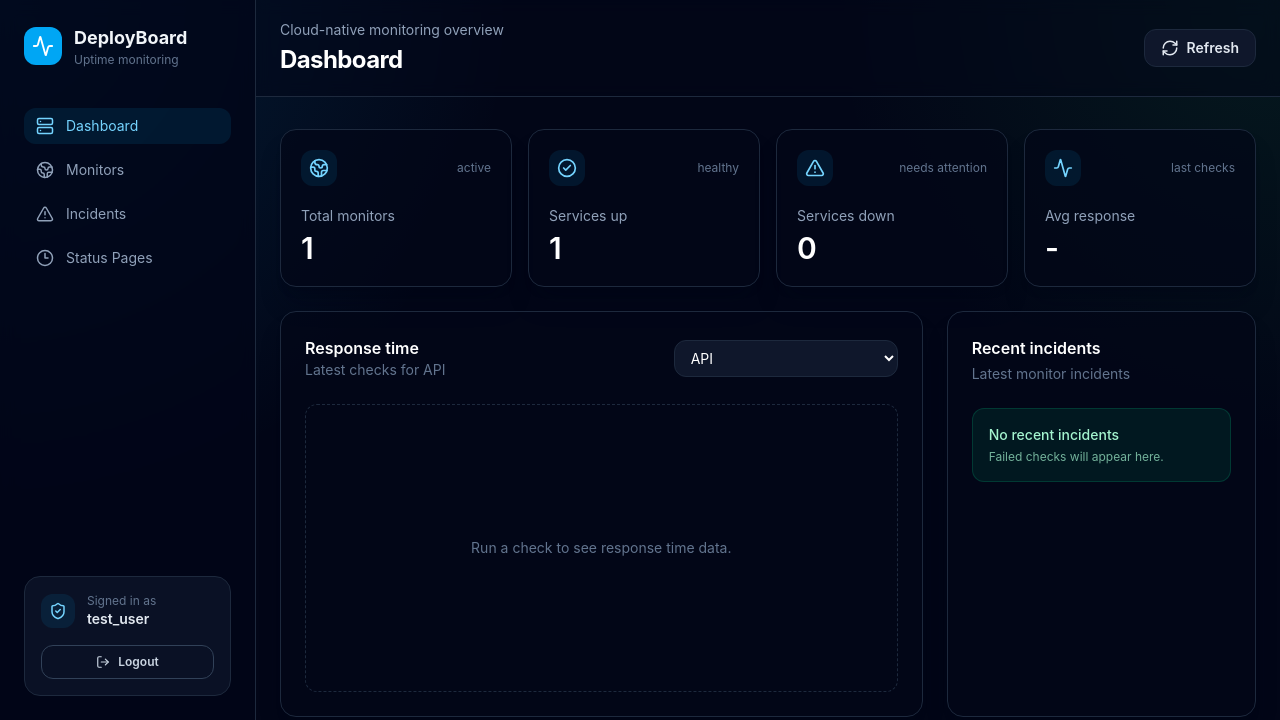
Test: dashboard views › shows Check only on Dashboard and full actions on Monitors
expect the heading "Dashboard" is shown: met, box [280,45,403,74]
expect the button "Edit" is not shown: met
Click the button "Monitors": x=128, y=170 [24,152,231,188]
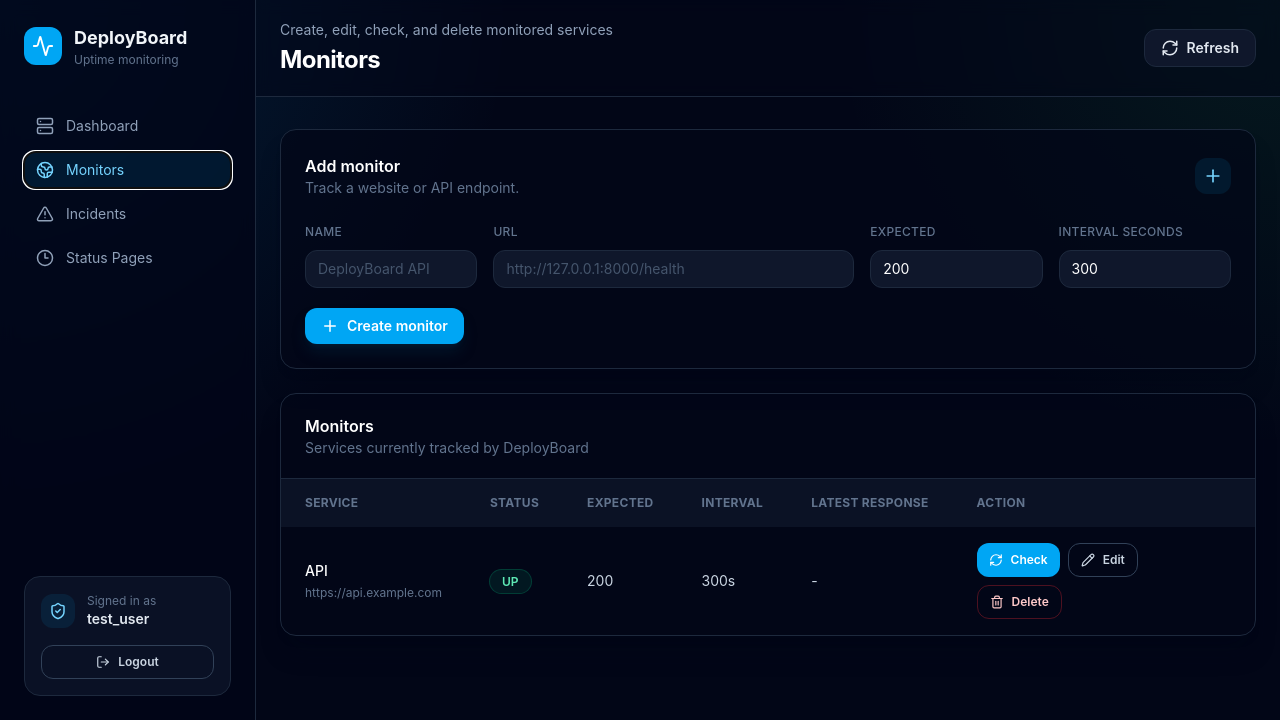
expect the button "Check" is shown: met, box [977,543,1060,577]
expect the button "Edit" is shown: met, box [1068,543,1138,577]
expect the button "Delete" is shown: met, box [977,585,1062,619]
